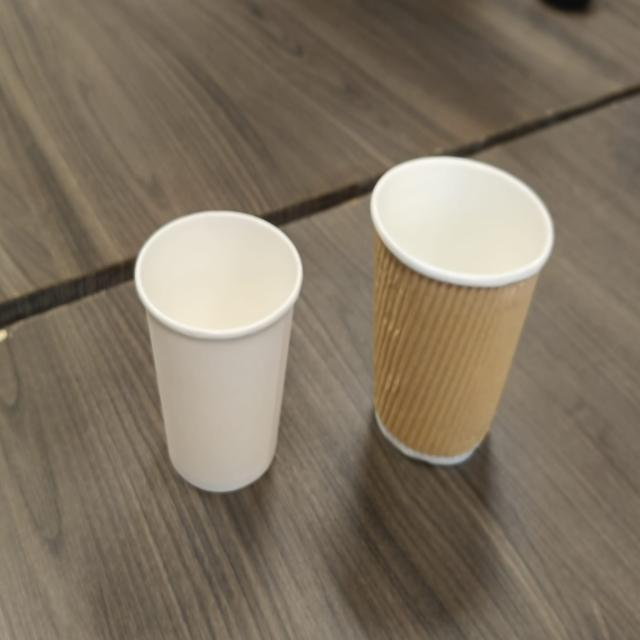Browncup: (370, 157, 554, 464)
Whitecup: (135, 211, 302, 492)
